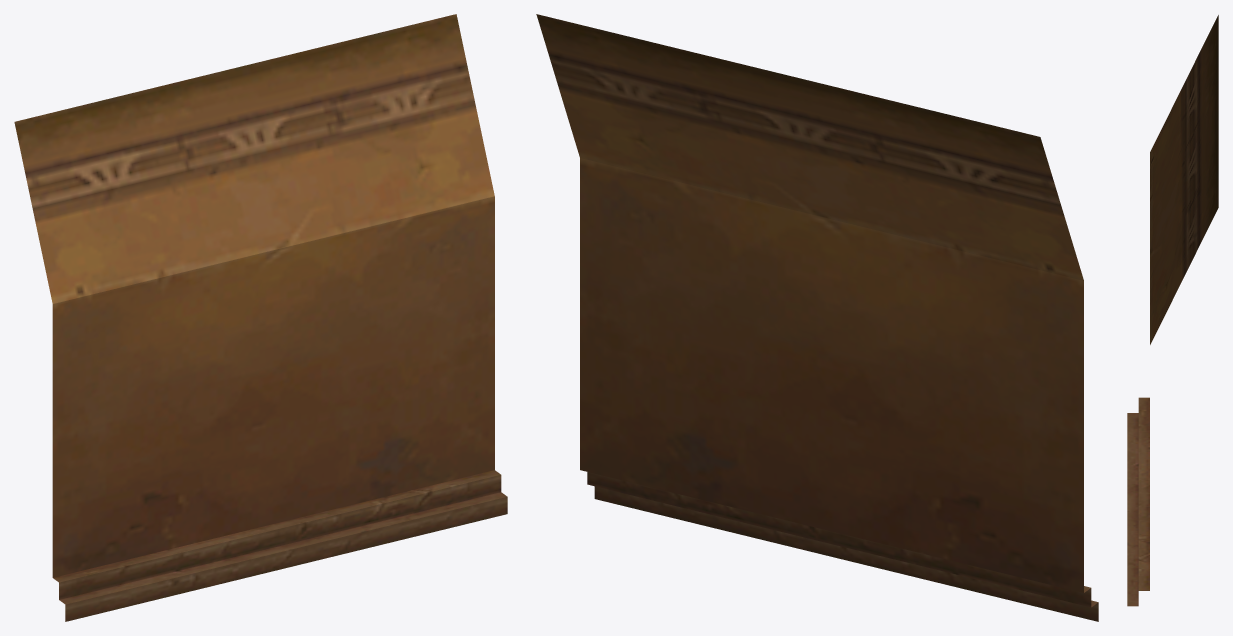
File: shakian_cliff_base4_wall01_01.FBX
The picture shows the model from 3 angles, left to right: view 1: azimuth 30°, elevation 25°; view 2: azimuth 150°, elevation 25°; view 3: azimuth 270°, elevation 25°; orthographic projection. The views are drawn at different scales.
Visible parts, largest first — view 1: shakian_cliff_base4_wall01_01; view 2: shakian_cliff_base4_wall01_01; view 3: shakian_cliff_base4_wall01_01.
Boxes of the visible parts, box(x1,y1,x2,y2) form: shakian_cliff_base4_wall01_01: box(14, 14, 507, 621); shakian_cliff_base4_wall01_01: box(536, 14, 1098, 621); shakian_cliff_base4_wall01_01: box(1127, 15, 1218, 606).
Size of the model in its own units: 4 by 4 by 0.8.
